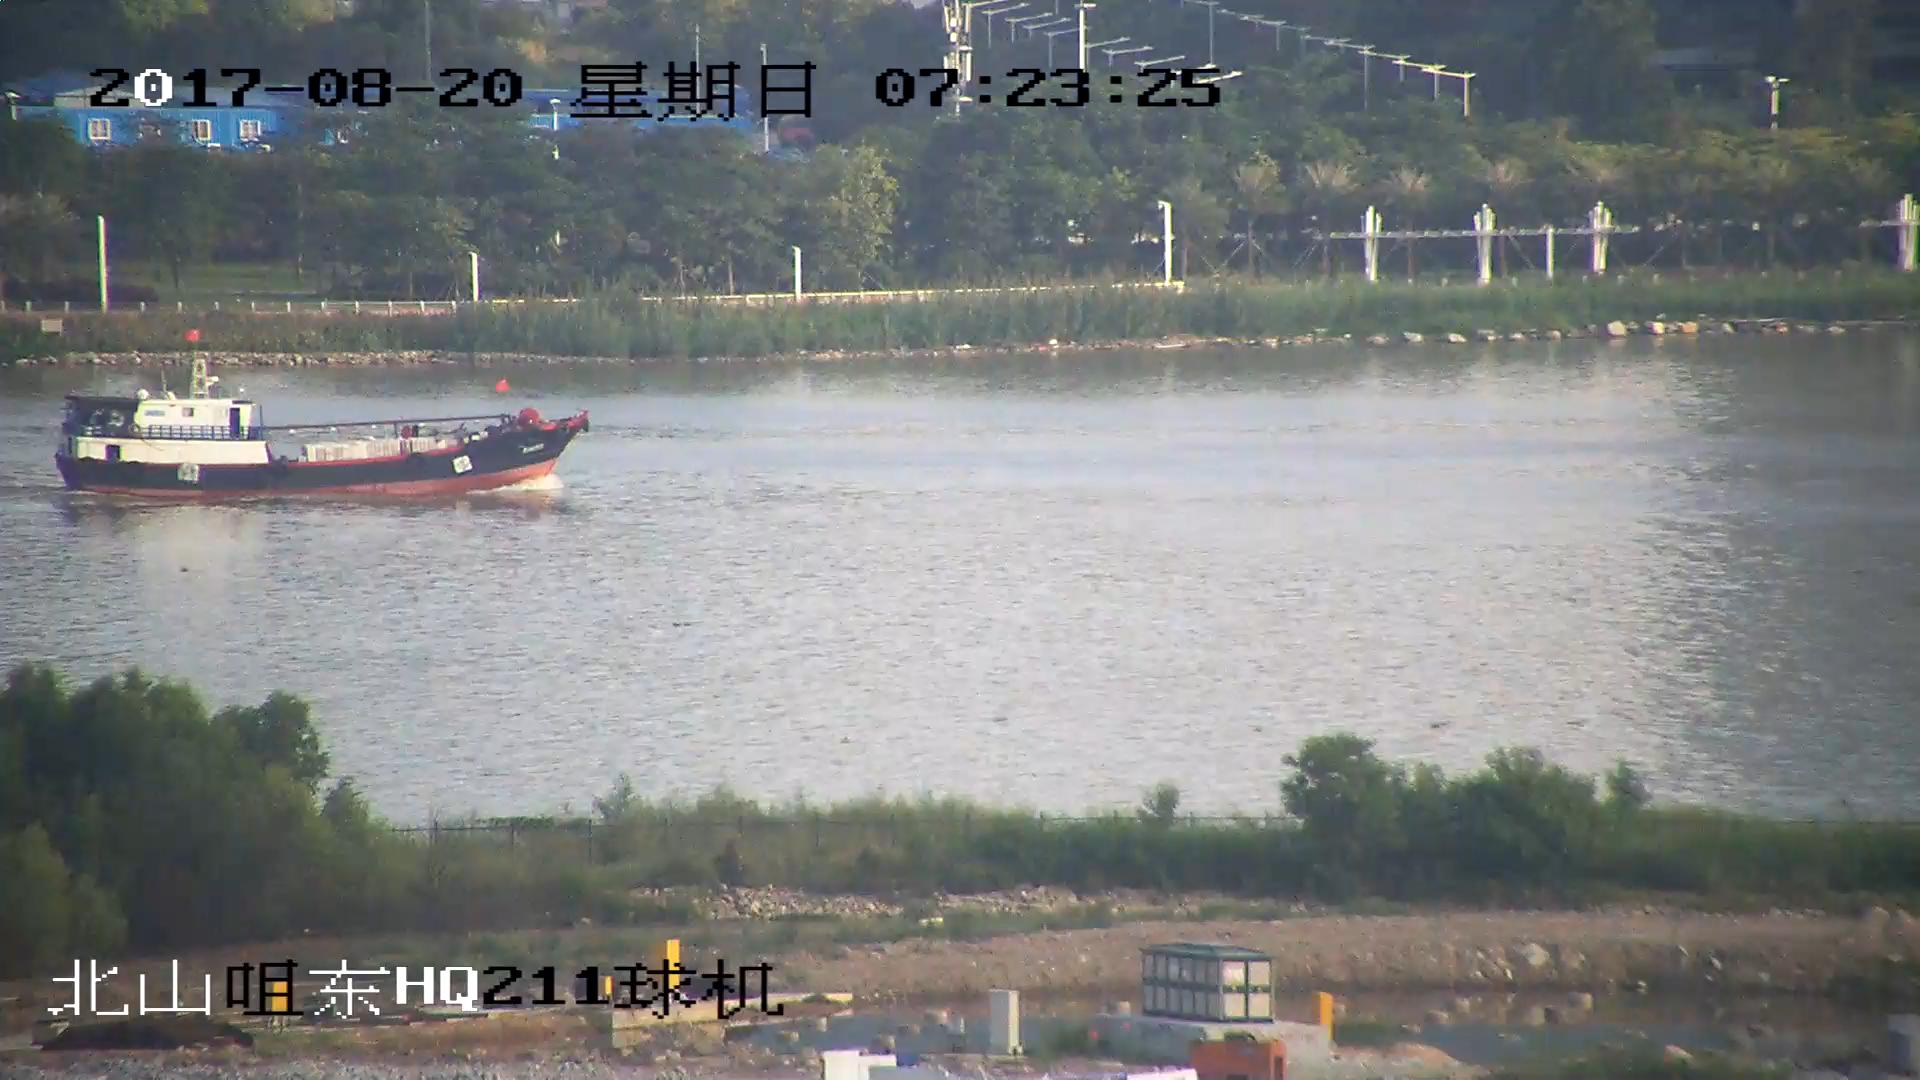fishing boat: (58, 348, 592, 501)
